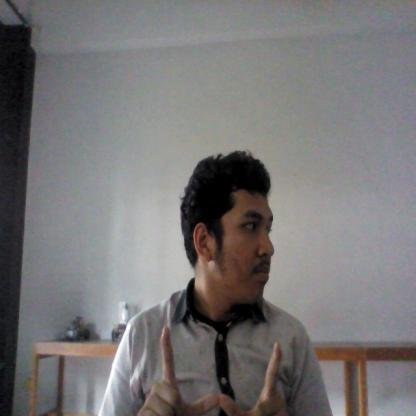W: (134, 325, 289, 416)
